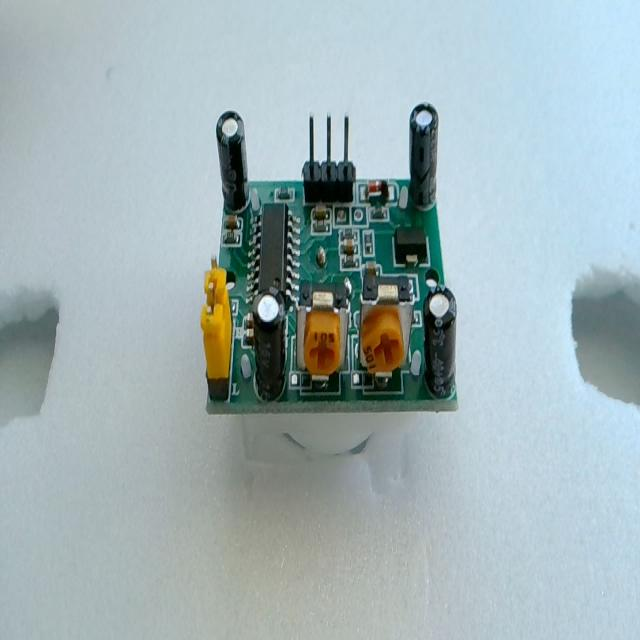Electrolytic capacitor: (422, 286, 458, 400), (251, 290, 287, 400), (216, 110, 250, 214), (408, 101, 440, 210)
IC: (249, 206, 298, 310)
pinheader: (302, 113, 357, 205)
